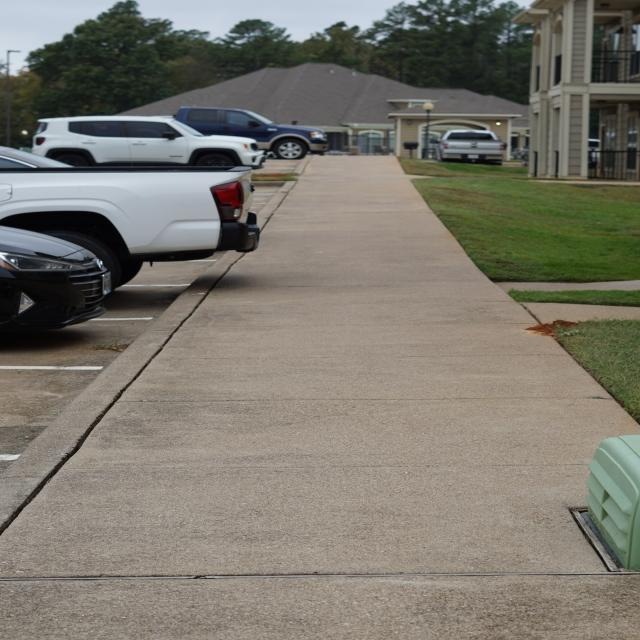Automobile: (0, 108, 329, 331), (435, 130, 505, 162)
Obstacle: (586, 435, 640, 570)
Road: (0, 255, 220, 454)
Sidewalk: (0, 157, 640, 640), (532, 281, 640, 290)
